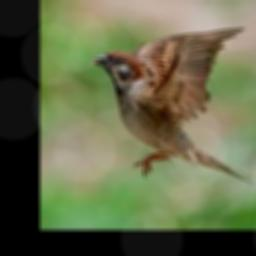Sparrow: (90, 27, 254, 183)
